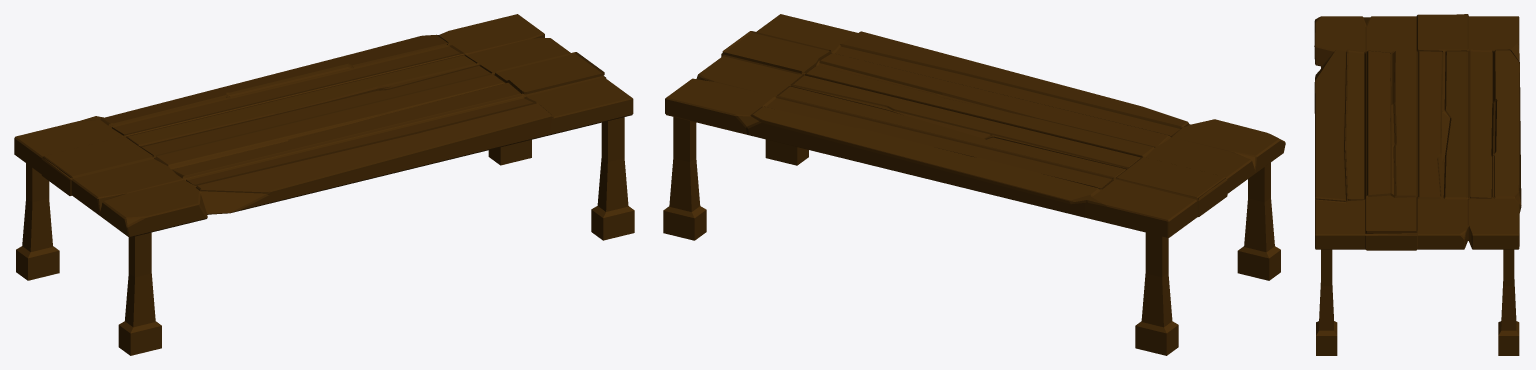
The model's file is LAST3.fbx.
3 renders of one model, left to right at view 1: azimuth 30°, elevation 25°; view 2: azimuth 150°, elevation 25°; view 3: azimuth 270°, elevation 25°, orthographic. The views are drawn at different scales.
Visible parts, largest first — view 1: Cube, Cube.003; view 2: Cube, Cube.003; view 3: Cube, Cube.003.
Part boxes in pixels (bbox=[...]): Cube: bbox=[14, 14, 633, 237]; Cube.003: bbox=[16, 117, 634, 355]; Cube: bbox=[665, 14, 1285, 237]; Cube.003: bbox=[663, 117, 1280, 355]; Cube: bbox=[1314, 14, 1521, 250]; Cube.003: bbox=[1316, 66, 1519, 355].
Size of the model in its own units: 3.02 by 1.2 by 0.8091.
